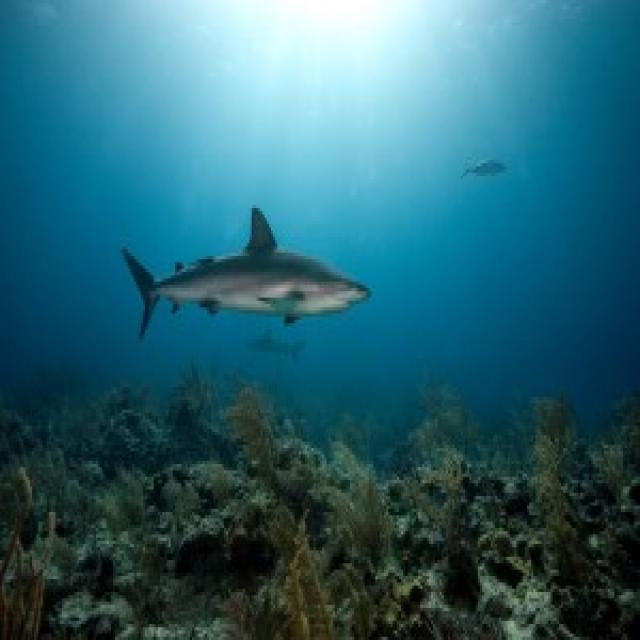Shark: (117, 199, 377, 364)
